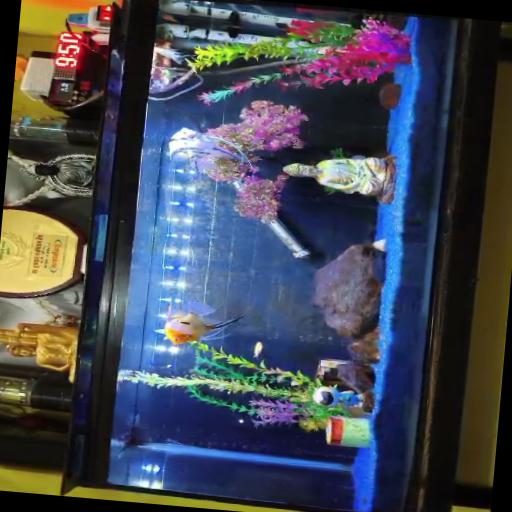Fish: (164, 301, 243, 344), (169, 126, 238, 171), (14, 55, 27, 80), (254, 340, 264, 357)
